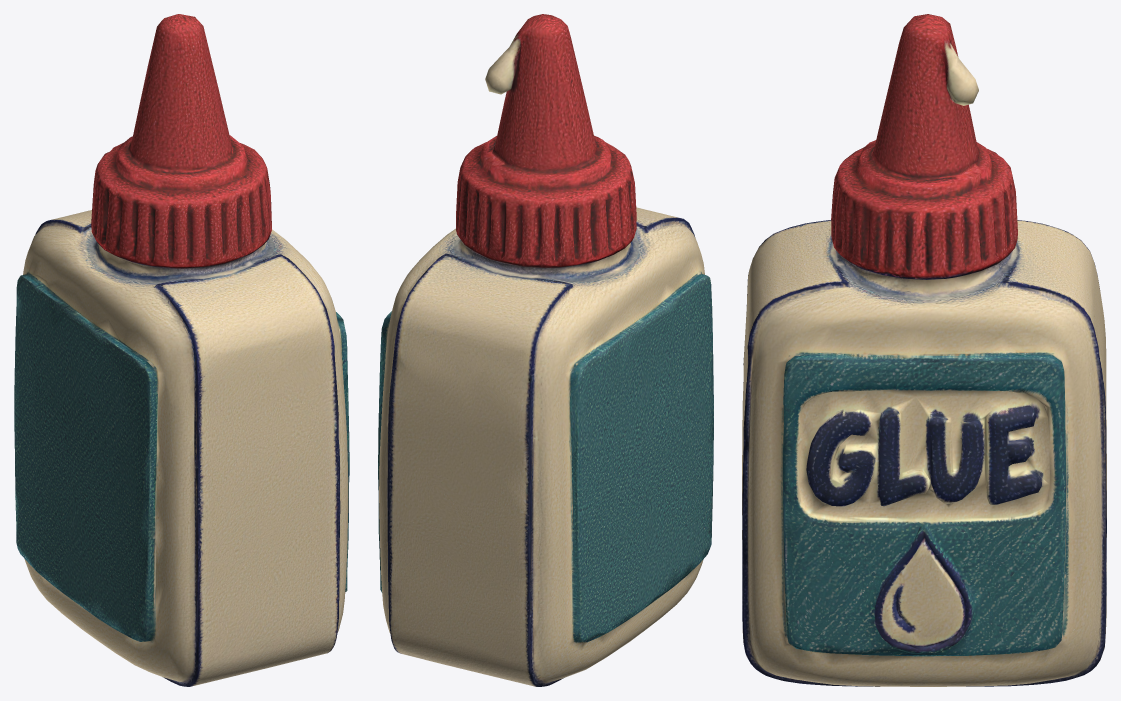
Rendered from Glue.fbx.
3 renders of one model, left to right at view 1: azimuth 30°, elevation 25°; view 2: azimuth 150°, elevation 25°; view 3: azimuth 270°, elevation 25°, orthographic. The views are drawn at different scales.
Parts seen in each view (by area): view 1: tripo_node_843c4f84-f17c-4890-b75d-38b61fe8a844; view 2: tripo_node_843c4f84-f17c-4890-b75d-38b61fe8a844; view 3: tripo_node_843c4f84-f17c-4890-b75d-38b61fe8a844.
Part boxes in pixels (box(x1,y1,x2,y2)): tripo_node_843c4f84-f17c-4890-b75d-38b61fe8a844: box(14, 14, 349, 686); tripo_node_843c4f84-f17c-4890-b75d-38b61fe8a844: box(378, 14, 713, 686); tripo_node_843c4f84-f17c-4890-b75d-38b61fe8a844: box(742, 14, 1106, 686).
Bounding box in the file's own units: 37.21 × 100 × 51.93.
Materials: 1 (1 with a texture image).
